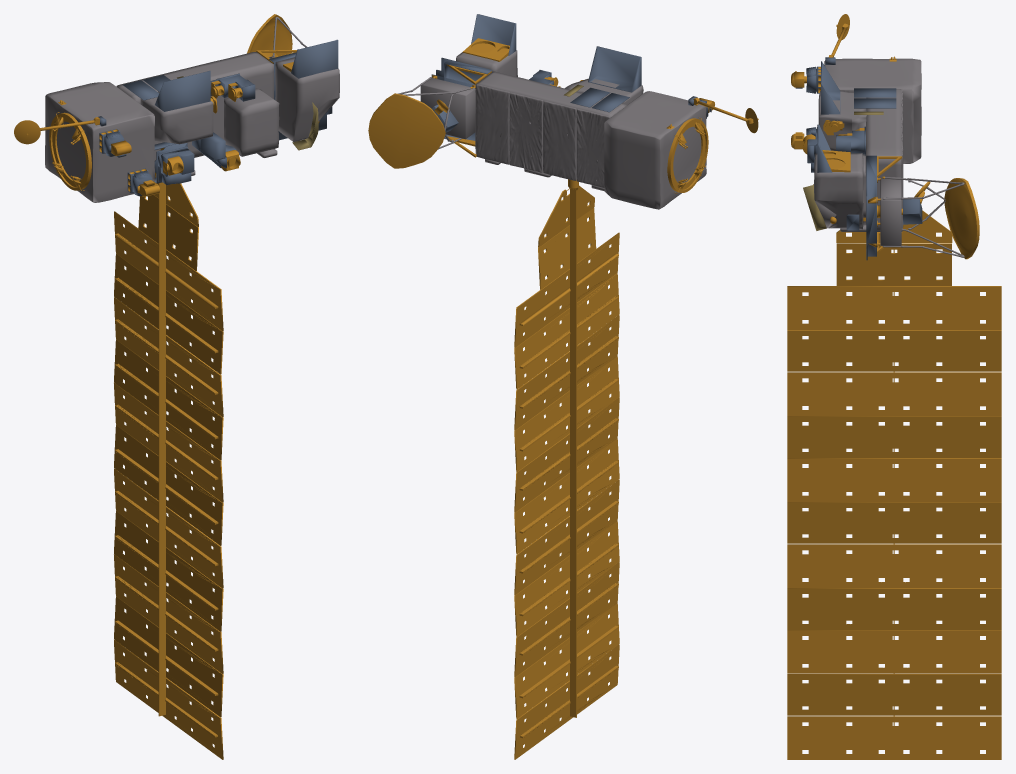
Rendered from Aqua (B).obj.
3 views of the same model, side by side, from view 1: azimuth 30°, elevation 25°; view 2: azimuth 150°, elevation 25°; view 3: azimuth 270°, elevation 25° (orthographic). The views are drawn at different scales.
Visible parts, largest first — view 1: obj2, obj6, obj5, obj3; view 2: obj2, obj6, obj4, obj5, obj3; view 3: obj3, obj6, obj2, obj5, obj1.
Part boxes in pixels (x1,y1,x2,y2): obj2: (14, 14, 319, 759); obj6: (45, 17, 339, 202); obj5: (98, 39, 338, 196); obj3: (114, 211, 223, 759); obj2: (368, 38, 758, 759); obj6: (398, 50, 706, 209); obj4: (476, 84, 610, 187); obj5: (431, 14, 711, 140); obj3: (514, 232, 619, 759); obj3: (787, 286, 1001, 759); obj6: (814, 58, 964, 257); obj2: (787, 14, 1001, 754); obj5: (795, 57, 922, 260); obj1: (803, 111, 883, 230).
Size of the model in its own units: 9.4 by 17.78 by 5.08.
